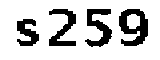2: (41, 5, 78, 50)
5: (83, 6, 113, 50)
9: (117, 6, 150, 49)
s: (14, 16, 39, 47)
